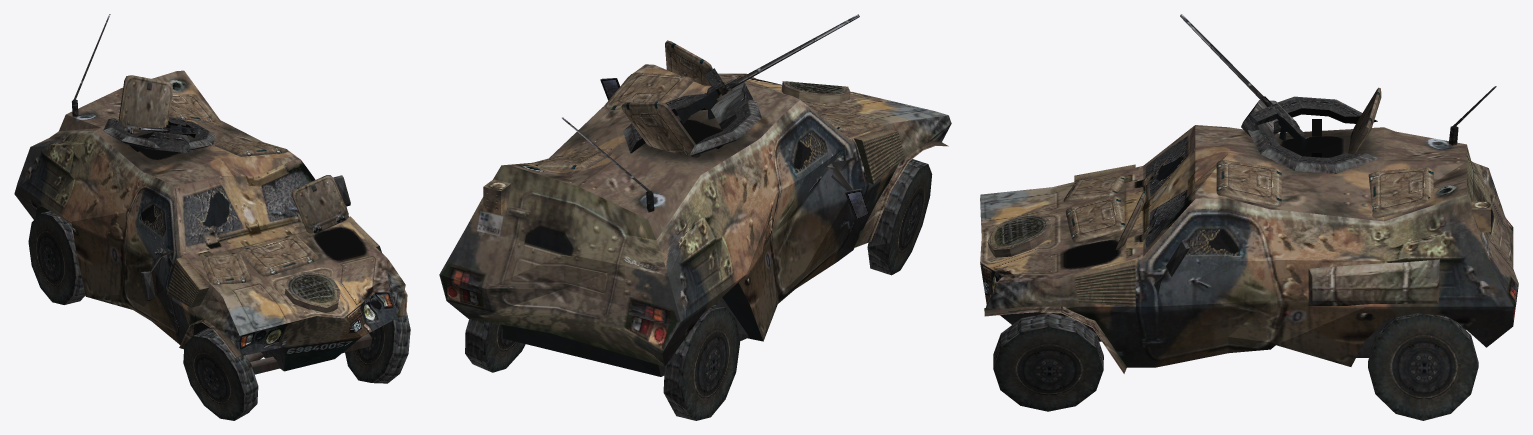
Rendered from vbl01x.glb.
3 views of the same model, side by side, from view 1: azimuth 30°, elevation 25°; view 2: azimuth 150°, elevation 25°; view 3: azimuth 270°, elevation 25° (orthographic). The views are drawn at different scales.
Parts seen in each view (by area): view 1: _vbl01x; view 2: _vbl01x; view 3: _vbl01x.
Part boxes in pixels (box(x1,y1,x2,y2)): _vbl01x: box(14, 14, 410, 420); _vbl01x: box(439, 14, 951, 420); _vbl01x: box(980, 14, 1518, 420).
Size of the model in its own units: 2.61 by 3.07 by 5.03.
1 material, 1 textured.
